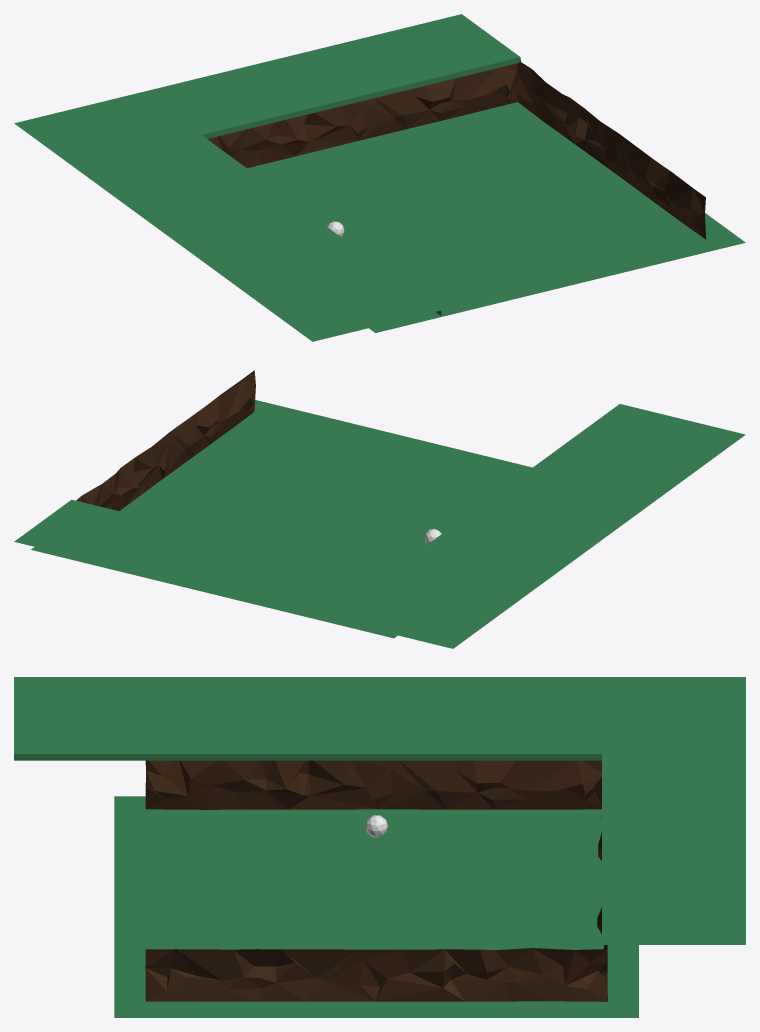
3 views of the same model, one above another, from view 1: azimuth 30°, elevation 25°; view 2: azimuth 150°, elevation 25°; view 3: azimuth 270°, elevation 25° (orthographic). The views are drawn at different scales.
Visible parts, largest first — view 1: Plane.003, Plane, Plane.002, Plane.004; view 2: Plane.003, Plane, Plane.004; view 3: Plane.003, Plane, Plane.004, Plane.001.
Boxes of the visible parts, box(x1,y1,x2,y2) form: Plane.003: box(14, 14, 520, 341); Plane: box(247, 102, 745, 332); Plane.002: box(207, 60, 520, 168); Plane.004: box(511, 61, 706, 239); Plane.003: box(14, 404, 745, 648); Plane: box(31, 400, 532, 638); Plane.004: box(76, 370, 255, 510); Plane.003: box(14, 677, 745, 944); Plane: box(114, 796, 638, 1017); Plane.004: box(145, 948, 607, 1001); Plane.001: box(145, 760, 601, 809).
Size of the model in its own units: 5815 by 553 by 6339.
